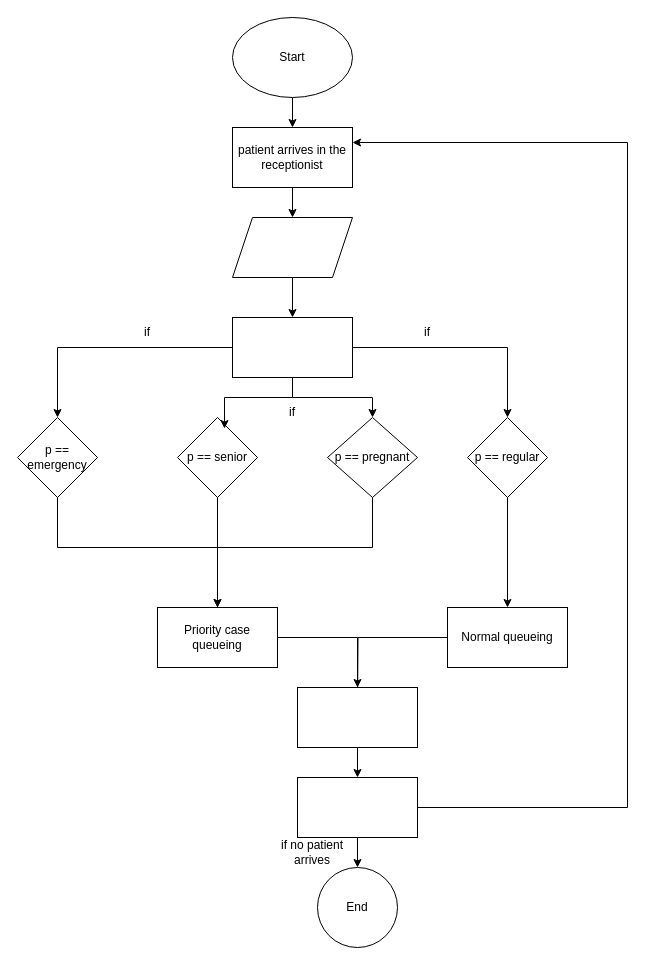
This 653x965 diagram has some shape labels left out. The centre of each missing label's shape, as x and y in pixels:
CLEAR DETAILS: point 357,717
get patient type: point 292,347
Next Patient: point 357,807
the receptionist inputs the details of the patient: point 292,247
